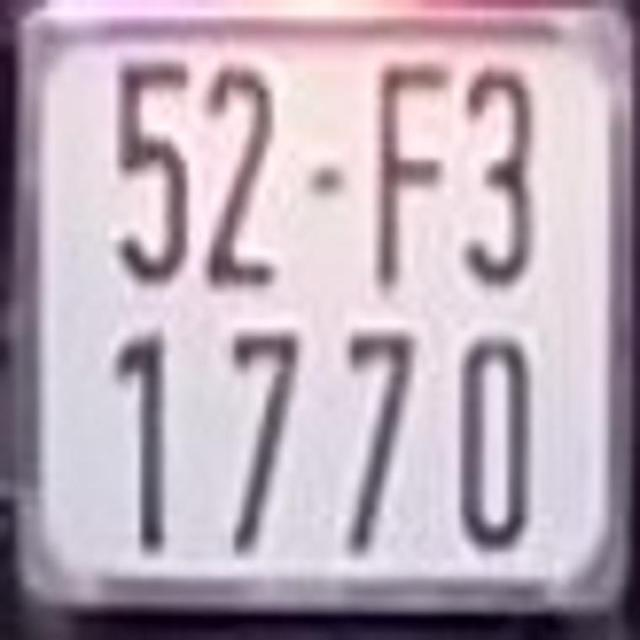0: (456, 328, 532, 552)
1: (114, 326, 175, 553)
2: (204, 59, 280, 288)
3: (463, 61, 535, 288)
5: (113, 54, 194, 283)
7: (344, 323, 419, 554), (226, 322, 300, 554)
F: (372, 55, 453, 288)
